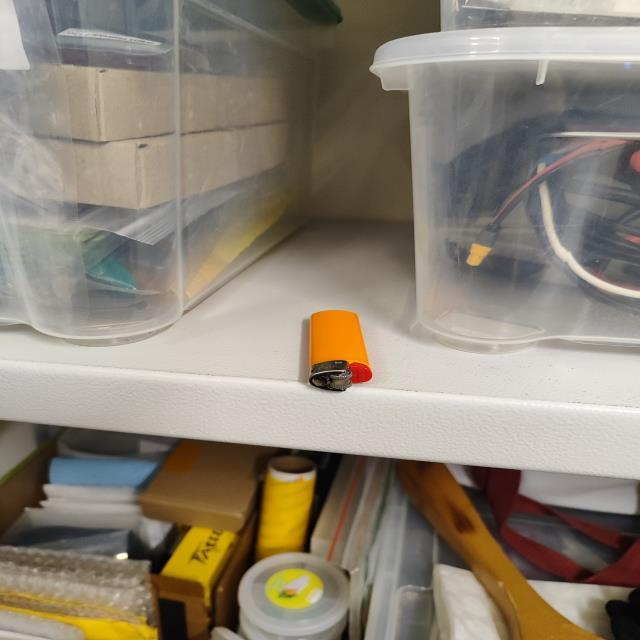lighter: (307, 310, 372, 391)
